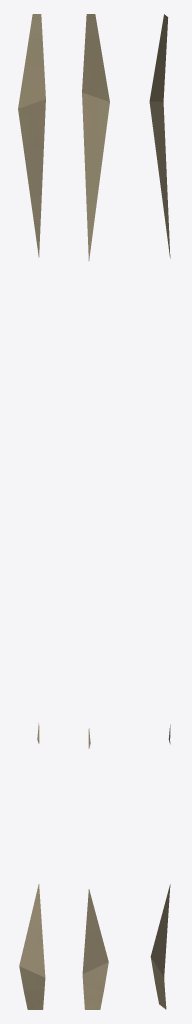
3 renders of one model, left to right at view 1: azimuth 30°, elevation 25°; view 2: azimuth 210°, elevation 25°; view 3: azimuth 330°, elevation 25°, orthographic.
Size of the model in its own units: 0.0186 by 0.8373 by 0.0106.
1 material, 1 textured.
